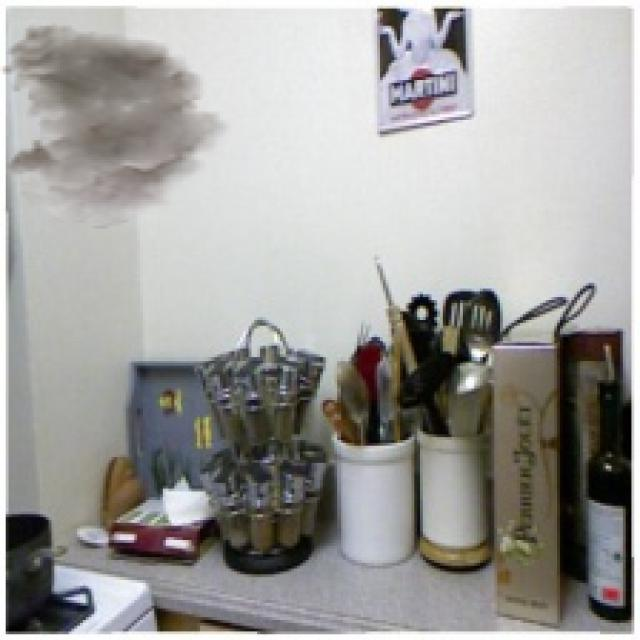smoke: (0, 22, 235, 229)
